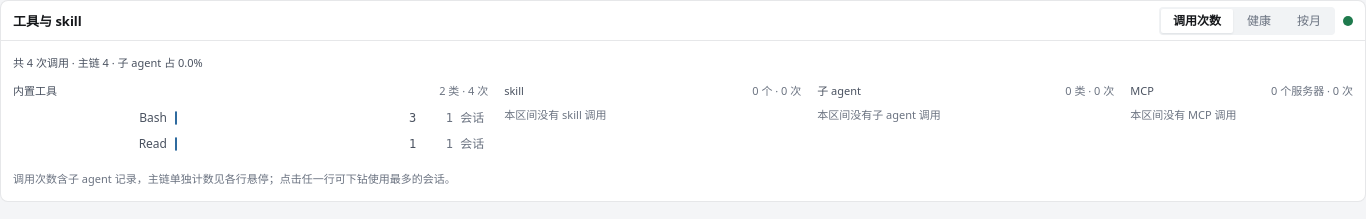
Test: ToolCensusPanel 健康视图（D2） › 健康页按失败率排序，>20% 标 ▲，样本不足写明次数
The width and height of the screenshot is (1366, 219).
Click the tab "健康": {"x": 1259, "y": 20} [1235,8,1283,32]
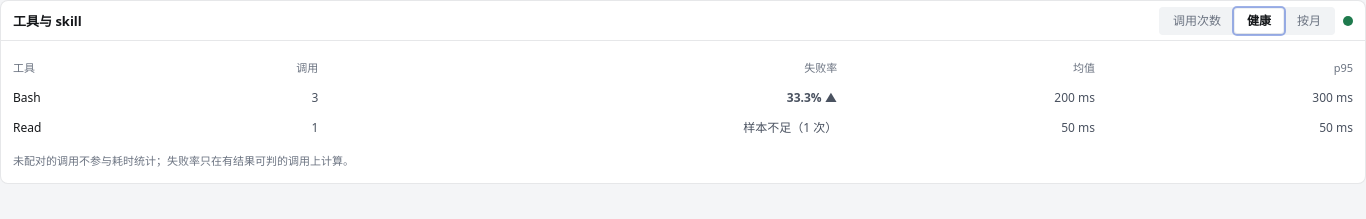
Expected: the cell "3" is shown, [152,83,318,113]
Expected: the cell "33.3% ▲" is shown, [318,83,837,113]
Expected: the row "Bash 3 33.3% ▲ 200 ms 300 ms" is shown, [13,83,1353,113]
